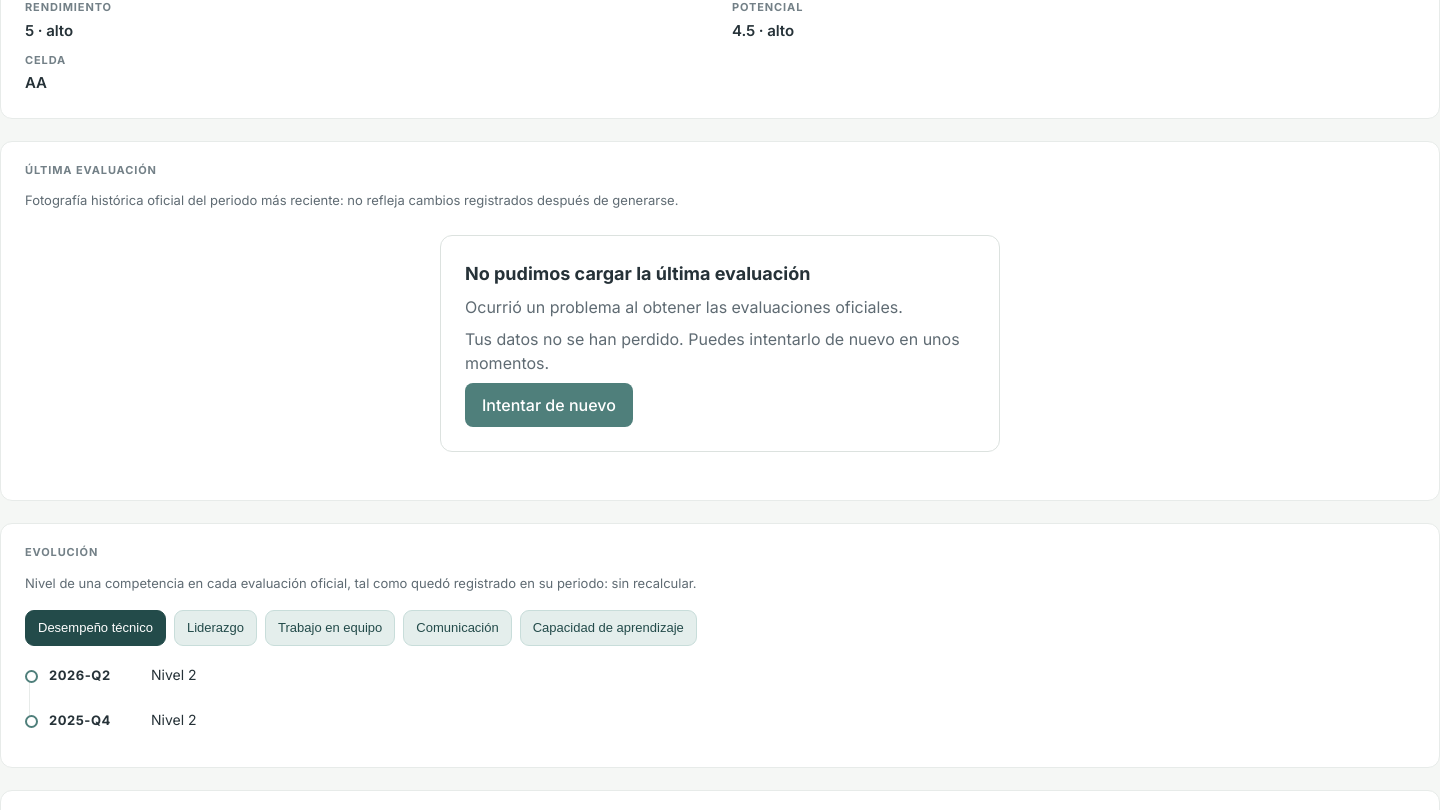
Test: PerfilEmpleado — última evaluación › muestra error y permite reintentar sin destruir la información básica
(page scrolled)
Expected: the heading "No pudimos cargar la última evaluación" is shown, top-left (465, 263), bottom-right (810, 284)
Click the button "Intentar de nuevo": click(549, 405) top-left (465, 383), bottom-right (633, 427)
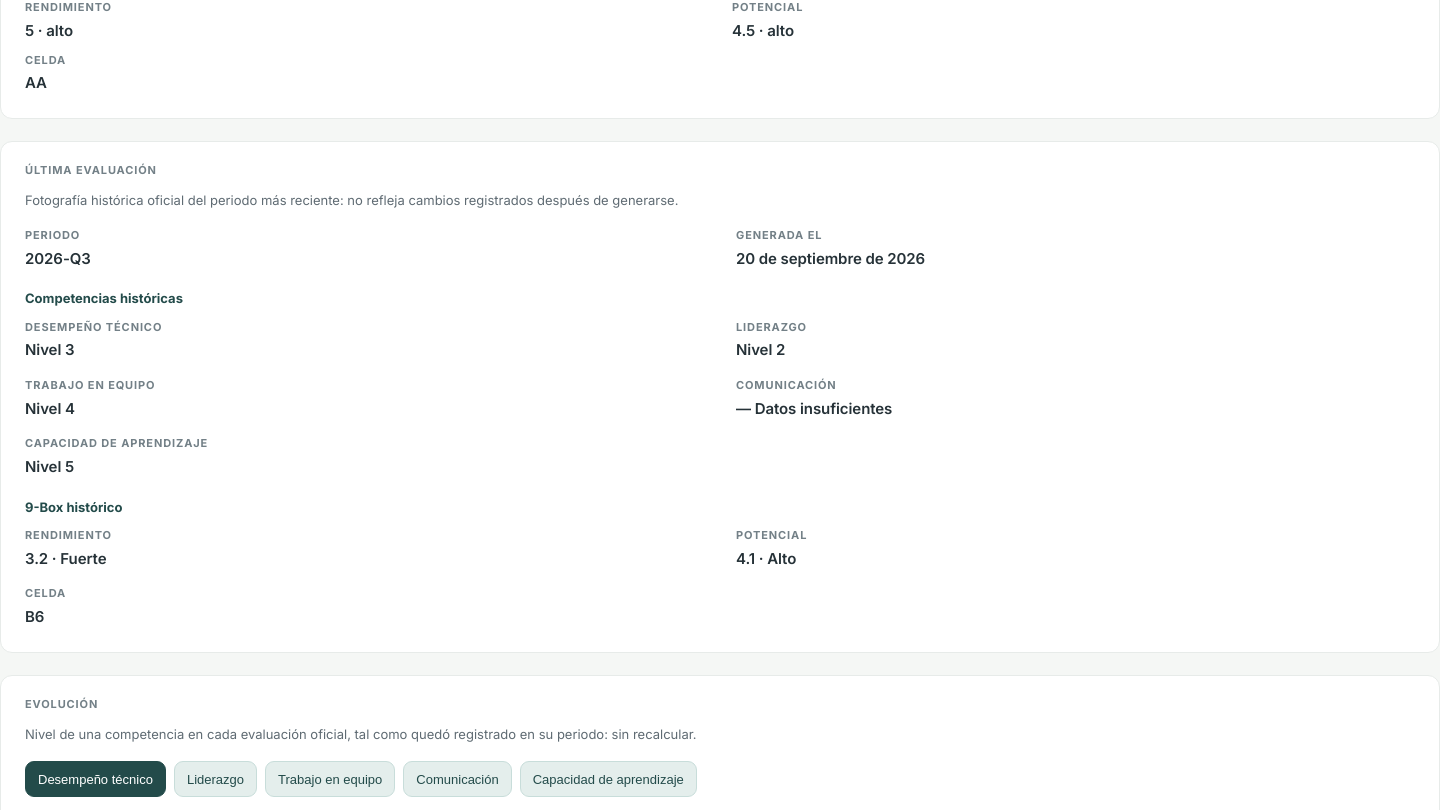
Result: the text "2026-Q3" is shown at top-left (25, 249), bottom-right (91, 268)
